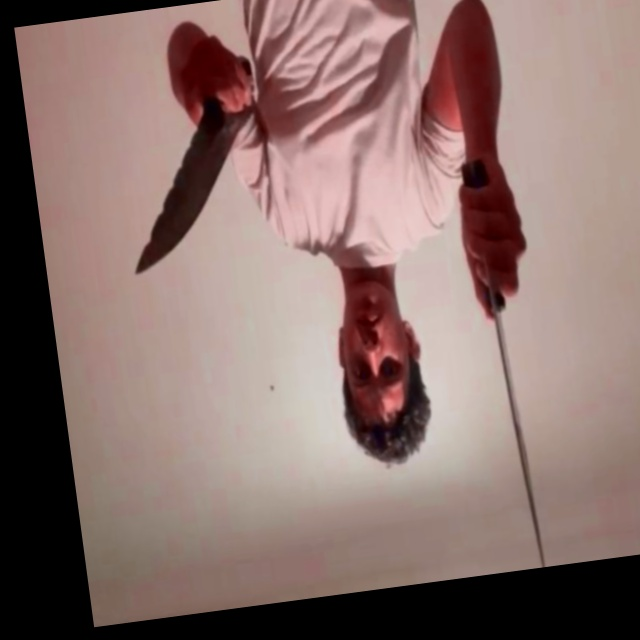Sharp-Object: (117, 111, 261, 271), (487, 272, 544, 556)
